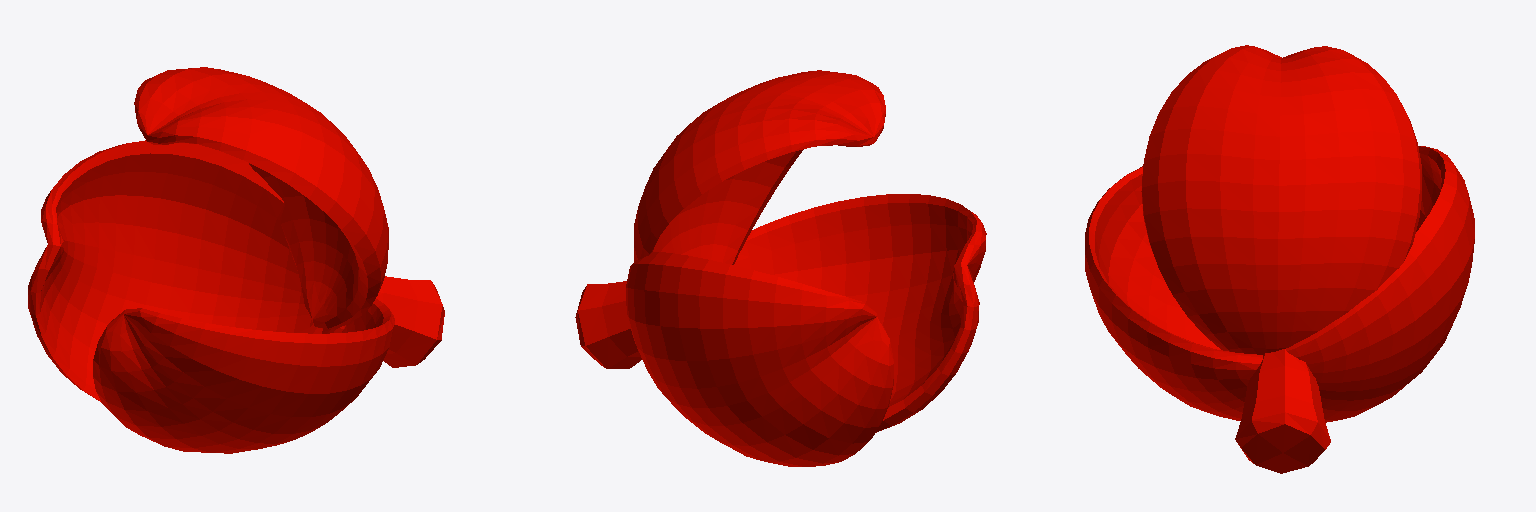
3 renders of one model, left to right at view 1: azimuth 30°, elevation 25°; view 2: azimuth 150°, elevation 25°; view 3: azimuth 270°, elevation 25°, orthographic.
Parts seen in each view (by area): view 1: casca_Cube_Material.001_0.001; view 2: casca_Cube_Material.001_0.001; view 3: casca_Cube_Material.001_0.001.
Part boxes in pixels (bbox=[...]): casca_Cube_Material.001_0.001: bbox=[28, 67, 444, 453]; casca_Cube_Material.001_0.001: bbox=[575, 70, 986, 466]; casca_Cube_Material.001_0.001: bbox=[1085, 45, 1474, 473].
Bounding box in the file's own units: 2.68 × 2.4 × 2.47.
1 materials, 1 textured.